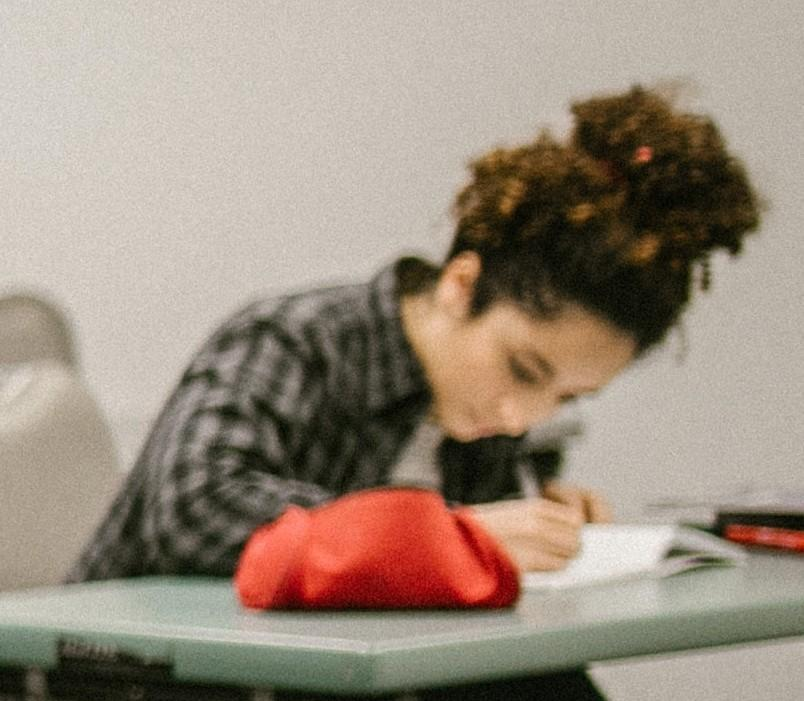good: (60, 60, 784, 601)
